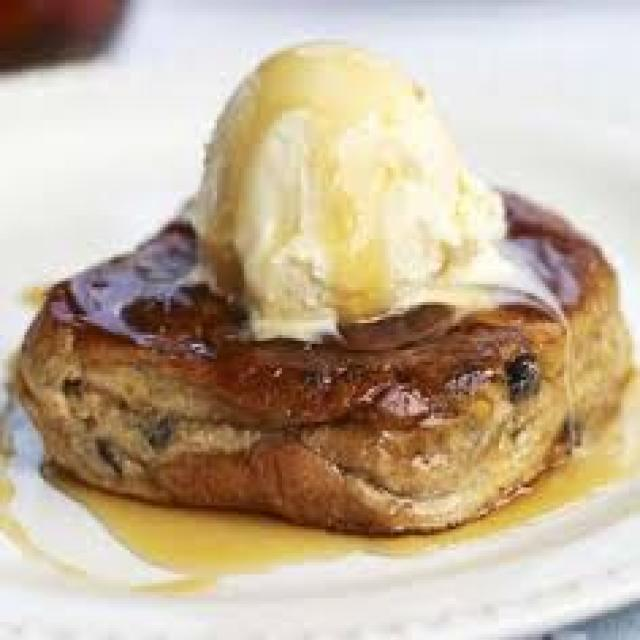organic waste: (11, 33, 637, 535), (187, 33, 513, 335)
